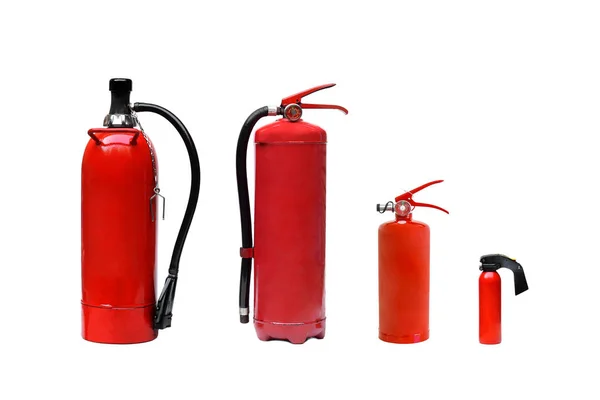fire_extinguisher: (80, 77, 200, 345), (235, 82, 349, 344), (375, 179, 449, 344), (478, 253, 529, 345)
